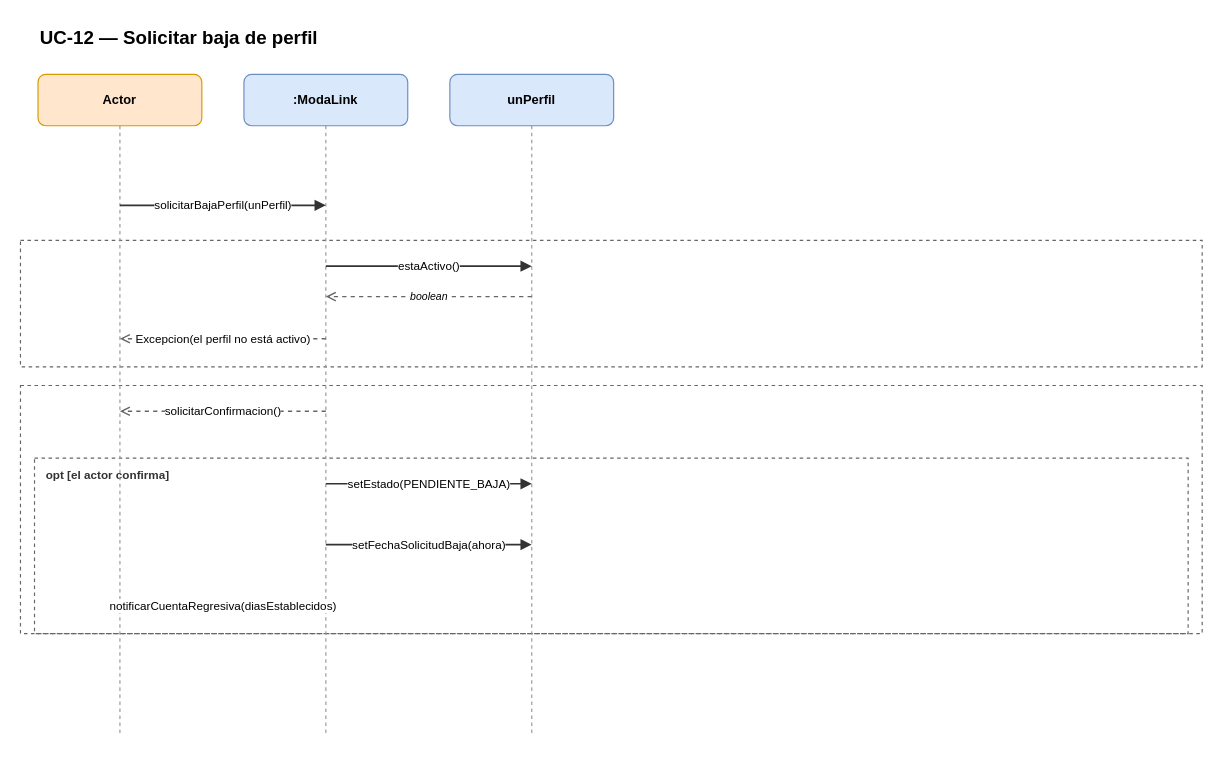
This 1223x758 diagram has some shape labels left out. Each missing label, with the box of its shape:
alt [!perfilActivo]: (19, 239, 1202, 367)
alt [perfilActivo]: (19, 384, 1202, 634)
